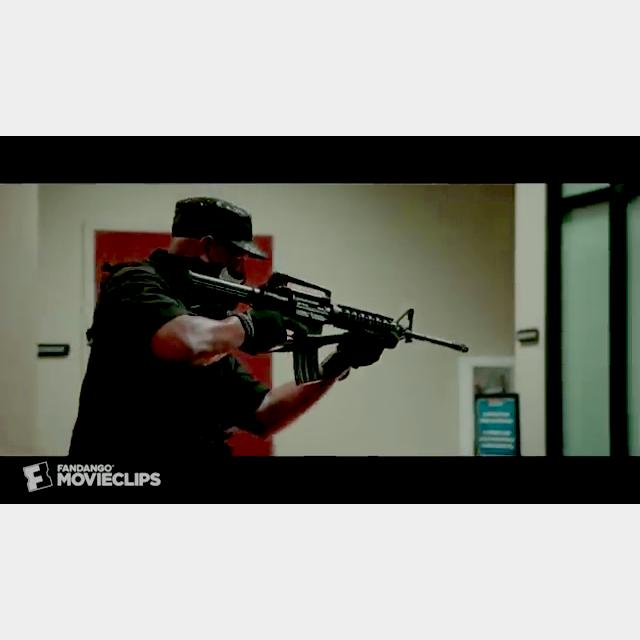criminal: (67, 197, 470, 456)
weapon: (185, 269, 471, 385)
